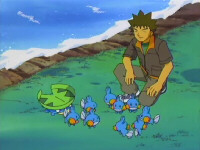mudkip: (112, 117, 131, 138), (80, 109, 99, 128), (140, 107, 160, 124), (63, 106, 80, 125), (126, 94, 141, 113), (103, 87, 116, 108), (79, 96, 97, 111), (112, 96, 127, 113), (133, 116, 145, 135)
